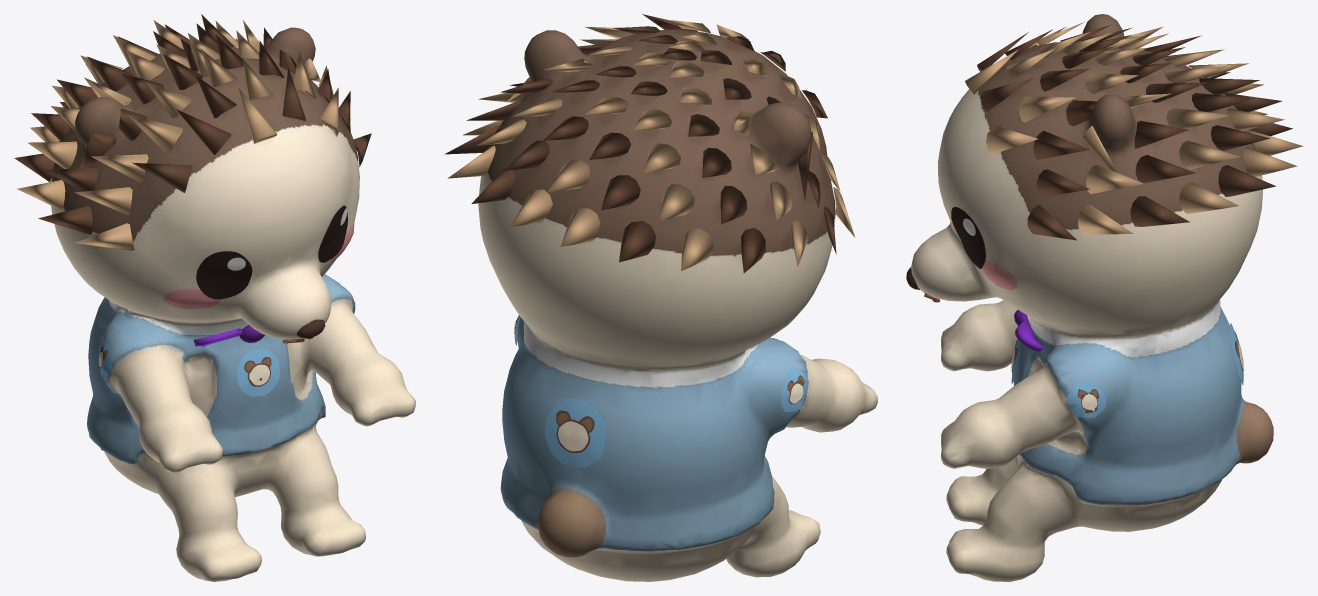
Rendered from hedgehog.glb.
3 views of the same model, side by side, from view 1: azimuth 30°, elevation 25°; view 2: azimuth 150°, elevation 25°; view 3: azimuth 270°, elevation 25° (orthographic). The views are drawn at different scales.
Parts seen in each view (by area): view 1: chibi, face; view 2: chibi, face; view 3: chibi, face.
Boxes of the visible parts, x1,y1,x2,y2 form: chibi: [50, 27, 415, 581]; face: [14, 14, 371, 396]; chibi: [478, 29, 877, 581]; face: [445, 14, 855, 467]; chibi: [911, 14, 1273, 581]; face: [906, 22, 1303, 418].
Bounding box in the file's own units: 0.7956 × 1.17 × 0.8251.
33 materials, 1 textured.
